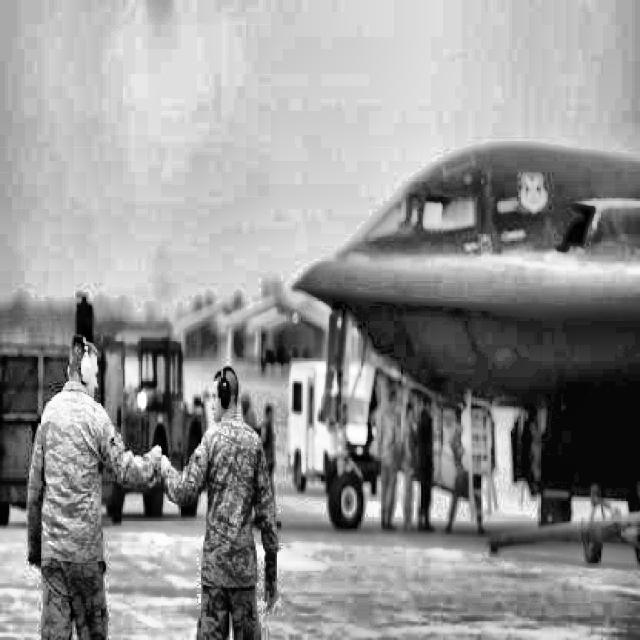B2: (290, 143, 638, 531)
